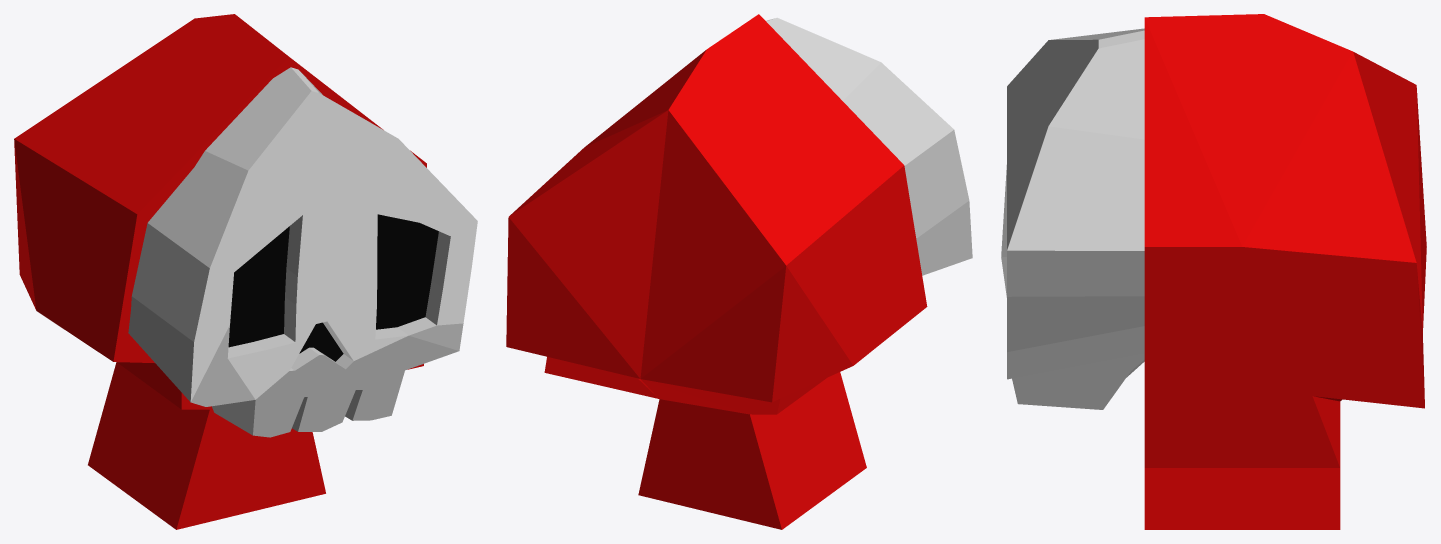
The model's file is lpm_red.fbx.
3 renders of one model, left to right at view 1: azimuth 30°, elevation 25°; view 2: azimuth 150°, elevation 25°; view 3: azimuth 270°, elevation 25°, orthographic. The views are drawn at different scales.
Visible parts, largest first — view 1: Head, Body; view 2: Body, Head; view 3: Body, Head.
Part boxes in pixels (<box>): Head: <box>128,67,477,437</box>; Body: <box>14,14,426,529</box>; Body: <box>506,14,927,529</box>; Head: <box>766,17,972,275</box>; Body: <box>1144,14,1426,529</box>; Head: <box>1001,28,1144,409</box>.
Bounding box in the file's own units: 409 × 559 × 435.
